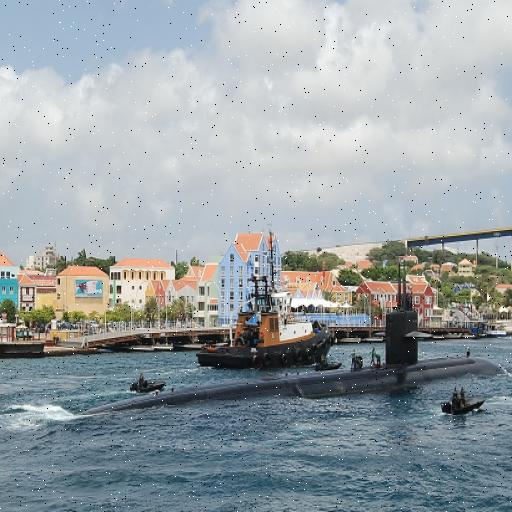submarine: (1, 286, 498, 441)
